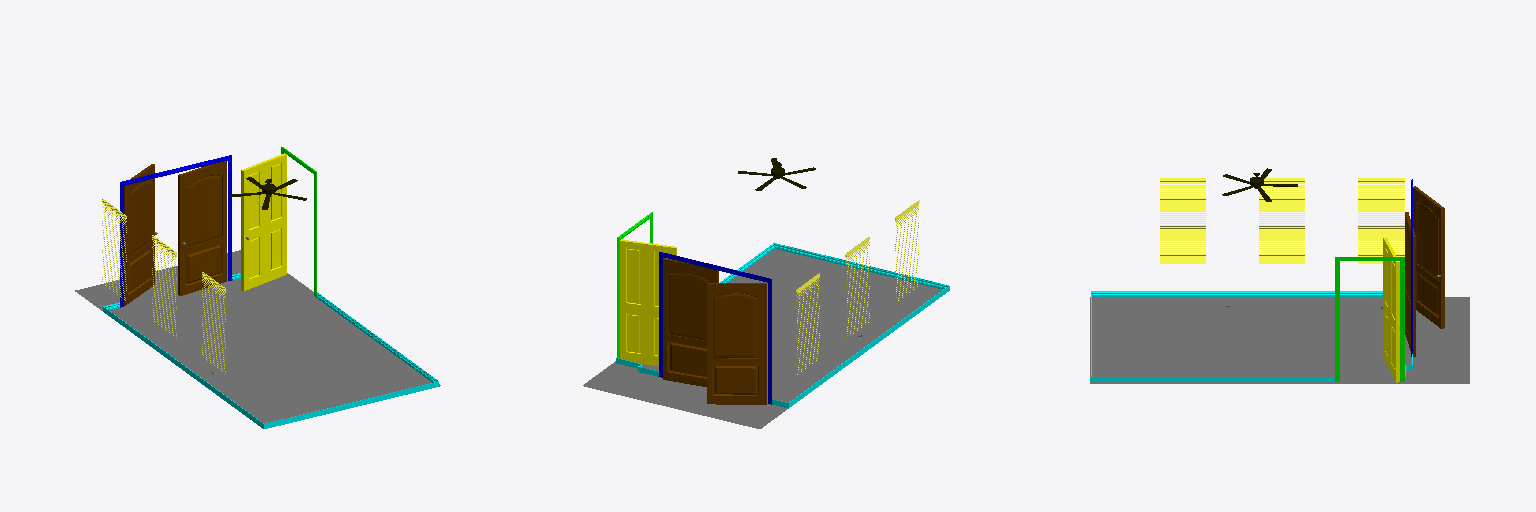
Rendered from bedroomupdated.obj.
The picture shows the model from 3 angles: view 1: azimuth 30°, elevation 25°; view 2: azimuth 150°, elevation 25°; view 3: azimuth 270°, elevation 25°; orthographic projection.
Visible parts, largest first — view 1: default; view 2: default; view 3: default.
Part boxes in pixels (bbox=[...]): default: bbox=[75, 147, 440, 428]; default: bbox=[583, 158, 949, 428]; default: bbox=[1090, 168, 1469, 383].
Size of the model in its own units: 127 by 112 by 228.